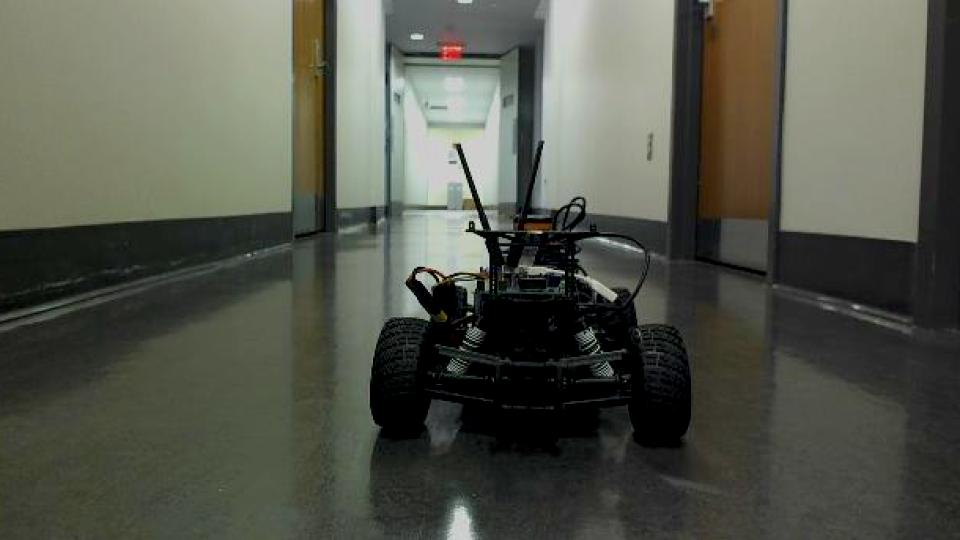car: (365, 138, 696, 446)
